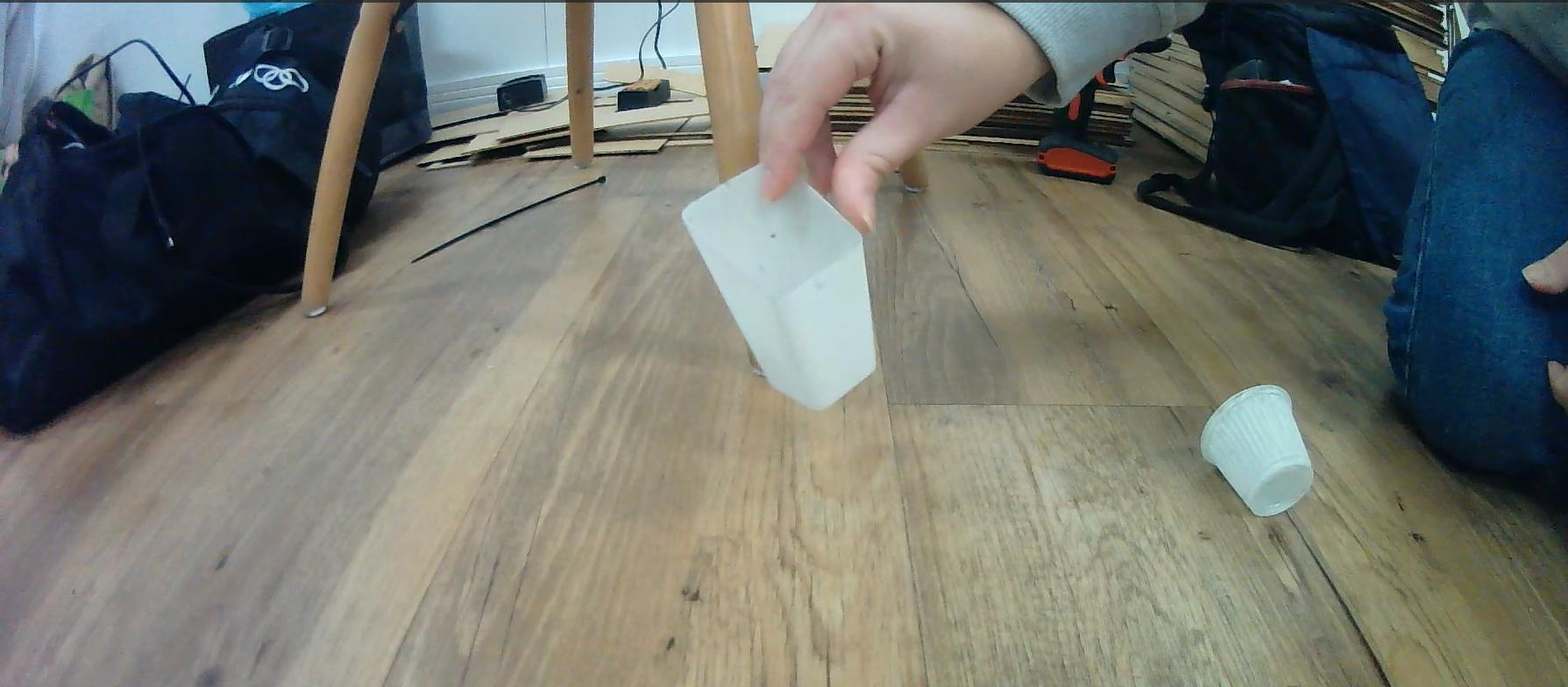erva_daninha: (681, 162, 877, 412)
planta: (1199, 383, 1315, 518)
